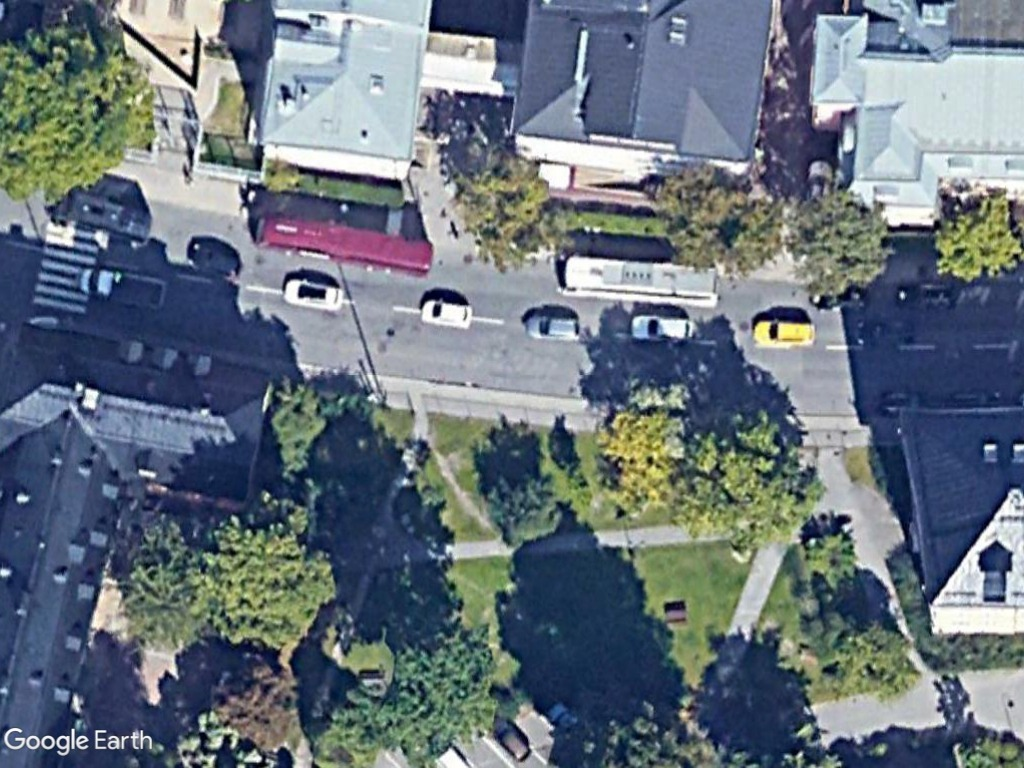bus: (246, 206, 438, 285), (550, 250, 725, 308)
car: (514, 302, 592, 348), (278, 272, 354, 318), (742, 312, 821, 355), (620, 308, 704, 346), (413, 293, 481, 333)
other: (67, 257, 179, 316)
